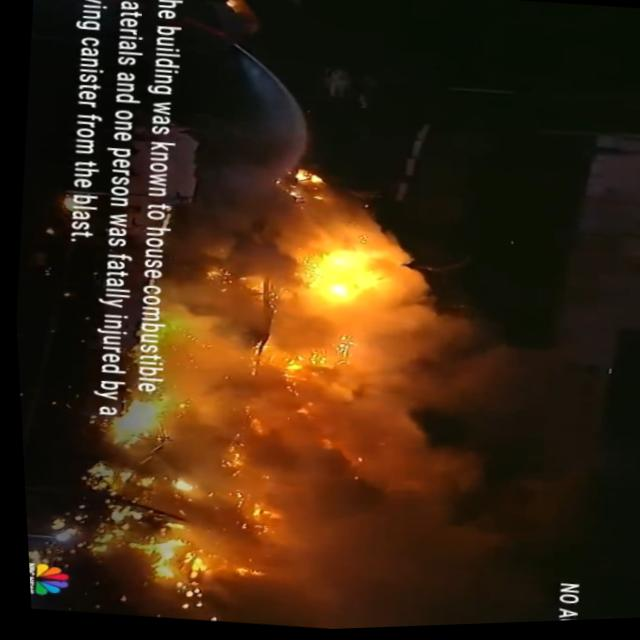Fire: (260, 340, 388, 516), (131, 481, 253, 604), (150, 265, 276, 383), (295, 230, 397, 336), (92, 385, 195, 475), (186, 375, 267, 489)
